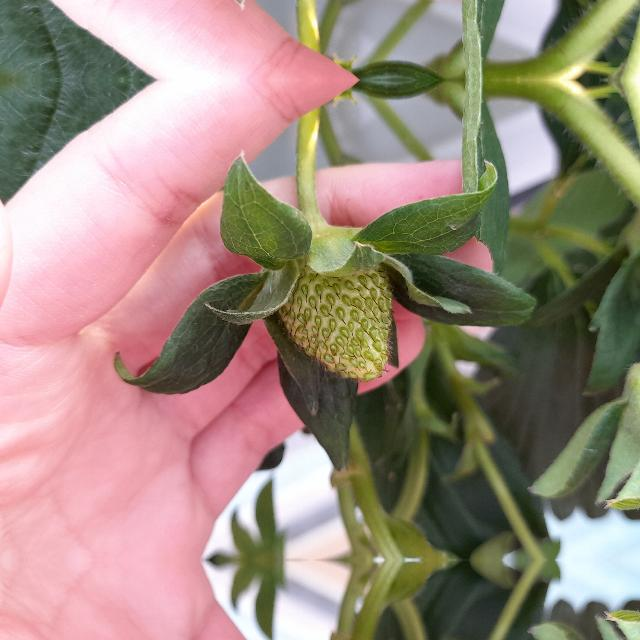Health_25: (277, 259, 393, 383)
